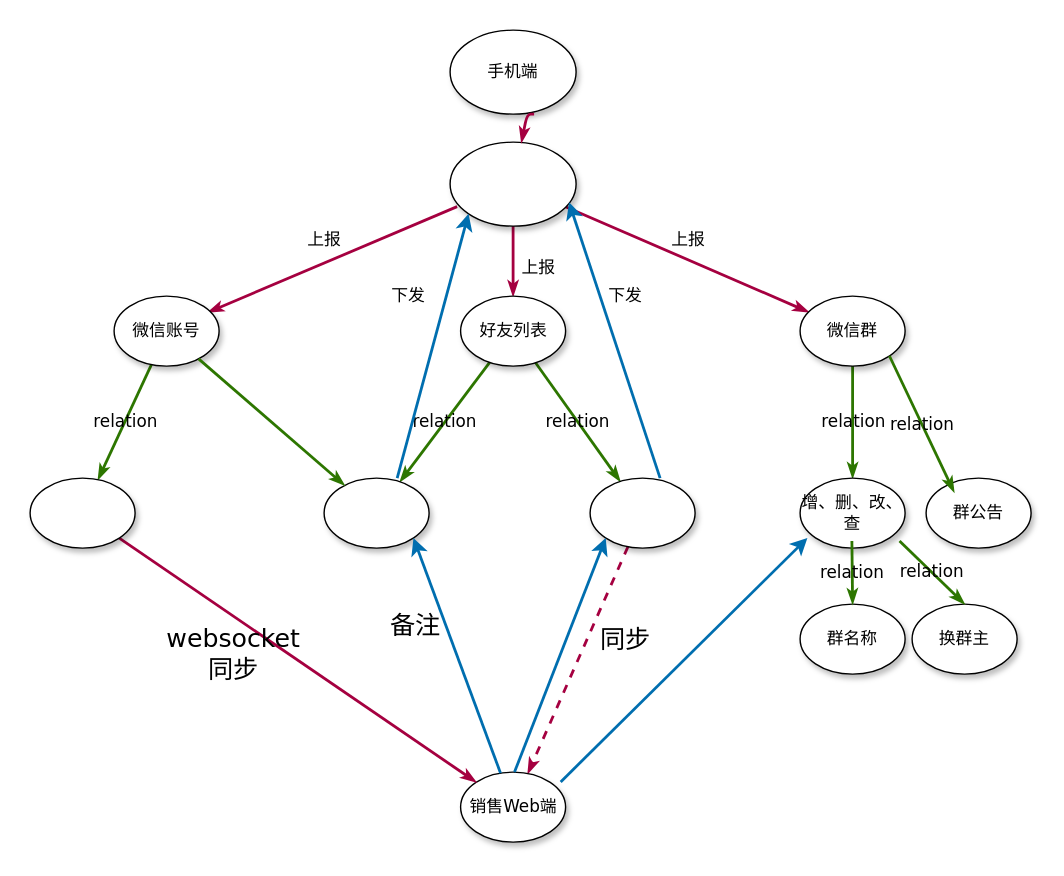
Some shapes in this 1064 by 876 pixel diagram are drawn without their labels. Here are the shapes that lost their labels. From the top down, the centre of each, then its label:
At point 513,185: "微信号".
At point 83,514: "登录状态".
At point 377,514: "好友".
At point 643,514: "增加、删除、拉黑".
